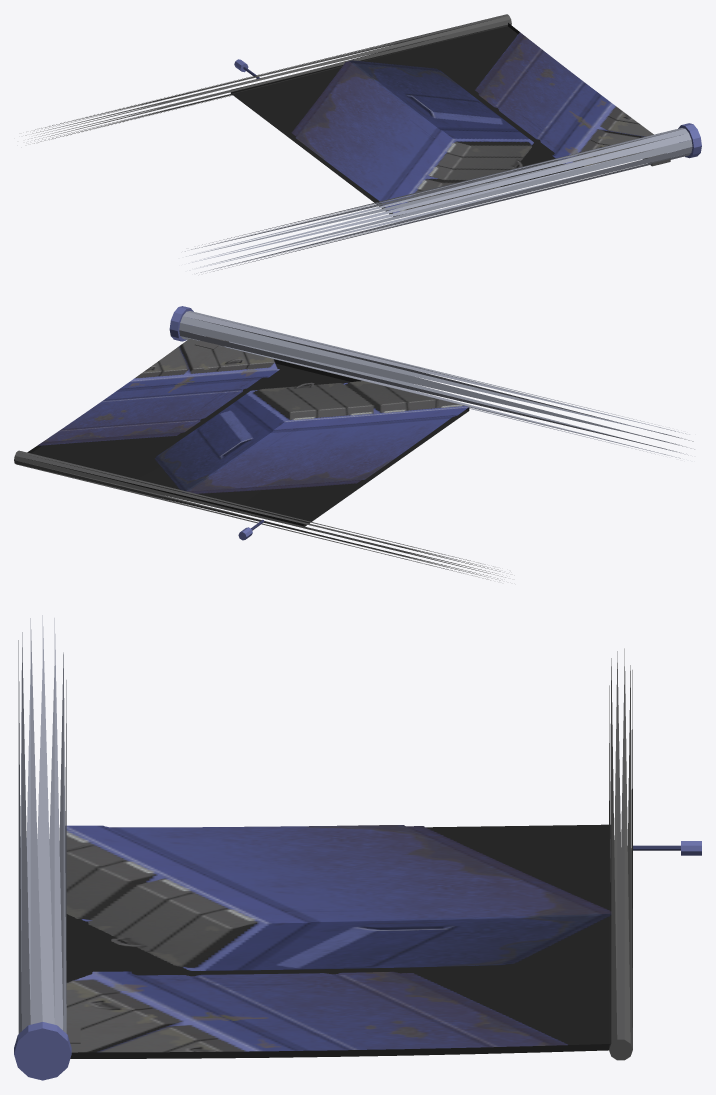
3 views of the same model, one above another, from view 1: azimuth 30°, elevation 25°; view 2: azimuth 150°, elevation 25°; view 3: azimuth 270°, elevation 25° (orthographic). The views are drawn at different scales.
Size of the model in its own units: 1.65 by 0.096 by 1.15.
